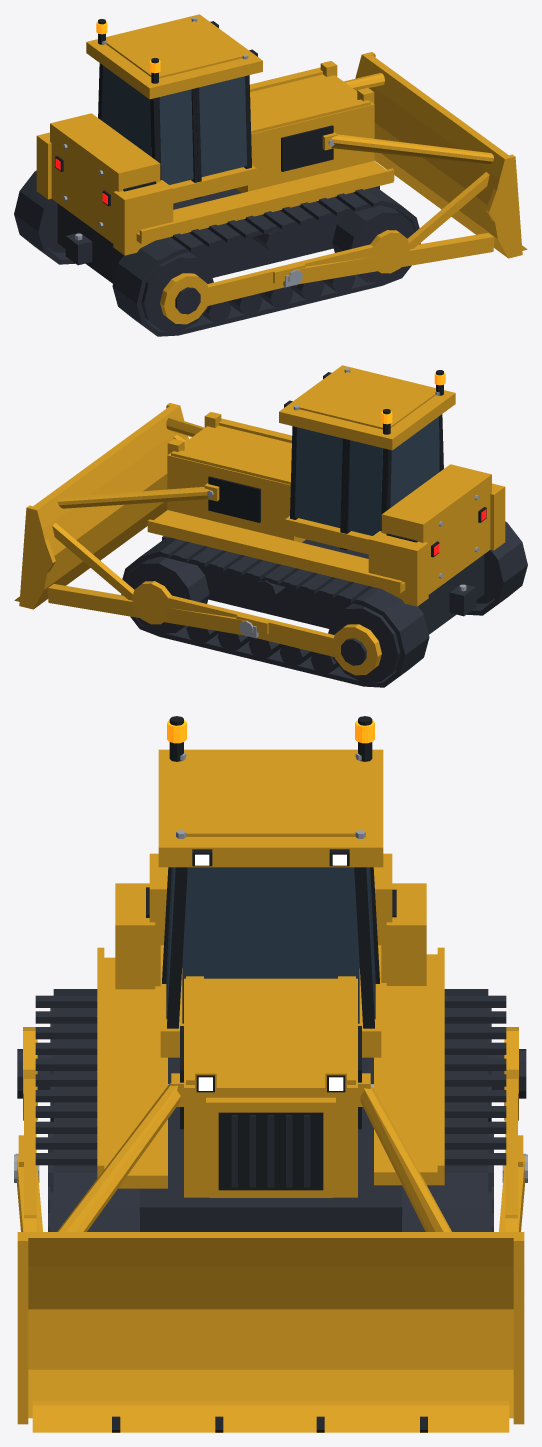
The model's file is mills q3 bulldozer.fbx.
3 renders of one model, top to bottom at view 1: azimuth 30°, elevation 25°; view 2: azimuth 150°, elevation 25°; view 3: azimuth 270°, elevation 25°, orthographic. The views are drawn at different scales.
Visible parts, largest first — view 1: Track_R_Sprocket_Cap; view 2: Track_R_Sprocket_Cap; view 3: Track_R_Sprocket_Cap.
Boxes of the visible parts, x1,y1,x2,y2 form: Track_R_Sprocket_Cap: [14, 14, 527, 336]; Track_R_Sprocket_Cap: [14, 365, 527, 687]; Track_R_Sprocket_Cap: [14, 716, 527, 1432].
Bounding box in the file's own units: 441 × 267 × 284.
